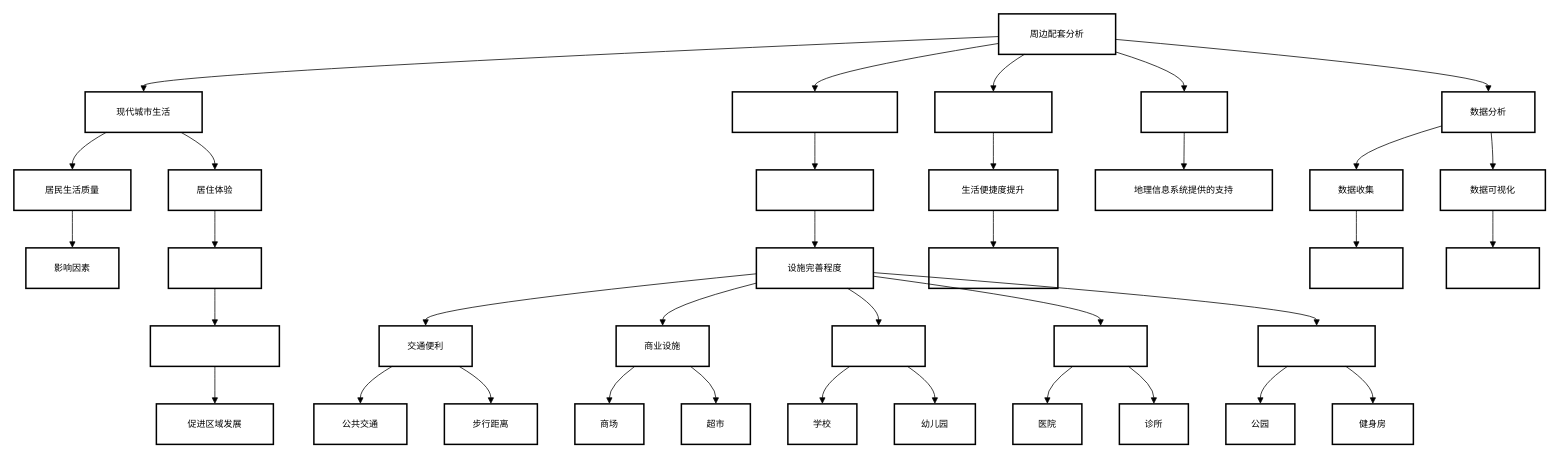
Image size: 1559x458. Some labels were removed from this diagram. The box of each missing label's shape, as (x1, y1, x2, y2) in pixels:
GIS技术: (1140, 91, 1228, 133)
休闲娱乐场所: (1257, 325, 1376, 367)
医疗服务: (1053, 325, 1148, 367)
周边配套设施: (755, 169, 874, 211)
图表展示: (1445, 247, 1540, 289)
增强社区归属感: (149, 325, 280, 367)
居住区域的生活便捷度: (731, 91, 898, 133)
居住环境要求: (934, 91, 1052, 133)
提升居民满意度: (928, 247, 1058, 289)
教育资源: (831, 325, 926, 367)
用户体验: (167, 247, 262, 289)
绩效指标: (1309, 247, 1403, 289)
